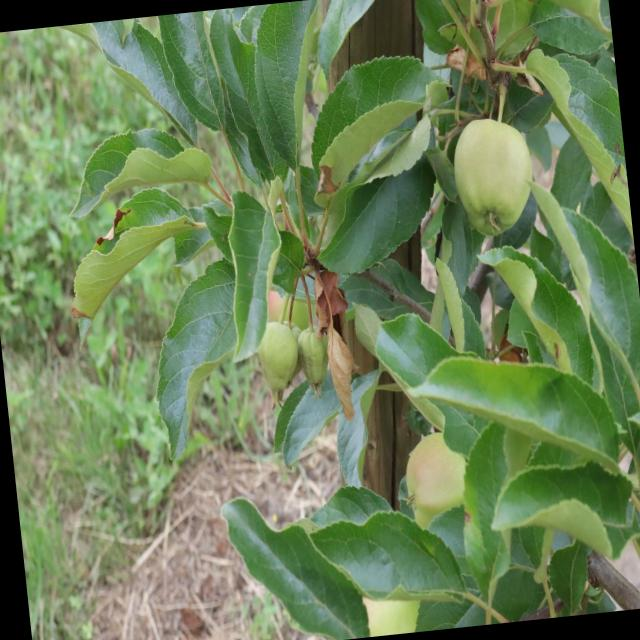-FireBlight-: (307, 248, 368, 416)
